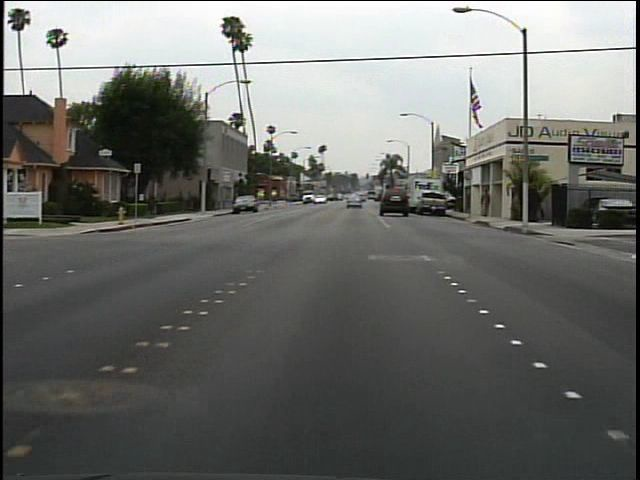person: (477, 186, 496, 219)
